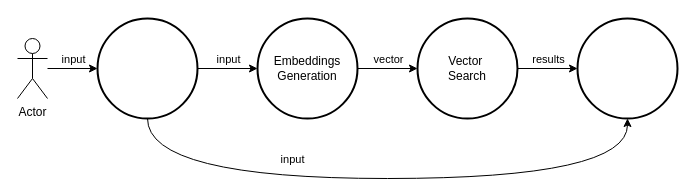
This 696x196 diagram has some shape labels left out. The shapes that lost their labels are listed below. From the top down, each one's centre as x and y in pixels, then its label:
At (147,68): "Entry Point".
At (627,68): "LLM".
